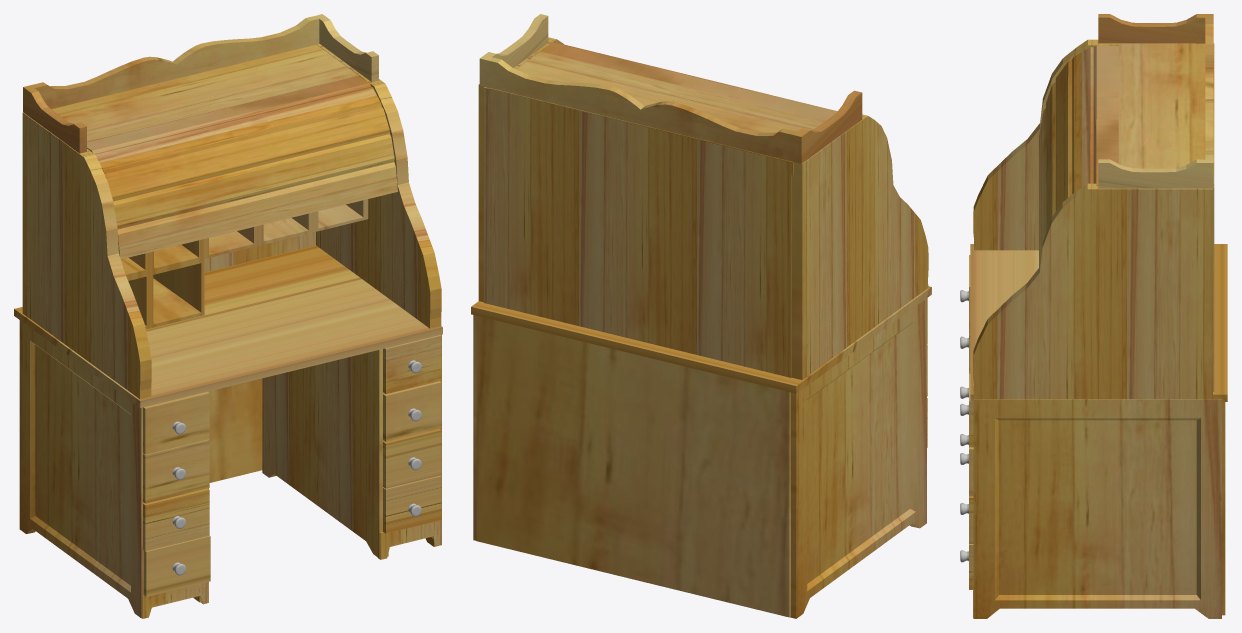
Rendered from sweethome3d-contributions-secretary-s-desk.glb.
The picture shows the model from 3 angles, left to right: view 1: azimuth 30°, elevation 25°; view 2: azimuth 150°, elevation 25°; view 3: azimuth 270°, elevation 25°; orthographic projection. The views are drawn at different scales.
Visible parts, largest first — view 1: front, writingsurface, PolyMesh_1, topside, PolyMesh_2_1, top, topside_1, toppiece, cubbyholes, back, drawerfront_2, drawerfront_1 (+9 smaller); view 2: back, Cube_2, PolyMesh_1, topside, toppiece, top, writingsurface, front, topside_1, PolyMesh_1_1; view 3: PolyMesh_1_1, topside_1, top, front, toppiece, topside, writingsurface, back, Cube_2.
Boxes of the visible parts, x1,y1,x2,y2 form: front: [87, 76, 397, 259]; writingsurface: [14, 245, 442, 407]; PolyMesh_1: [19, 320, 144, 618]; topside: [22, 112, 151, 399]; PolyMesh_2_1: [262, 349, 388, 558]; top: [51, 44, 358, 142]; topside_1: [316, 43, 441, 328]; toppiece: [23, 14, 378, 153]; cubbyholes: [121, 199, 368, 329]; back: [209, 378, 262, 482]; drawerfront_2: [143, 439, 209, 503]; drawerfront_1: [143, 391, 209, 454]; back: [476, 316, 790, 617]; Cube_2: [484, 87, 791, 377]; PolyMesh_1: [790, 298, 926, 618]; topside: [792, 114, 928, 379]; toppiece: [479, 14, 862, 163]; top: [488, 51, 825, 174]; writingsurface: [471, 286, 931, 393]; front: [541, 41, 837, 120]; topside_1: [478, 37, 563, 302]; PolyMesh_1_1: [473, 315, 476, 540]; PolyMesh_1_1: [973, 399, 1221, 618]; topside_1: [973, 183, 1212, 399]; top: [1118, 43, 1214, 184]; front: [1039, 45, 1118, 267]; toppiece: [1098, 14, 1213, 188]; topside: [973, 39, 1118, 250]; writingsurface: [970, 244, 1227, 401]; back: [1222, 402, 1225, 615]; Cube_2: [1213, 185, 1214, 391].
Bounding box in the file's own units: 2.76 × 3.88 × 2.07.
Materials: 2 (1 with a texture image).
